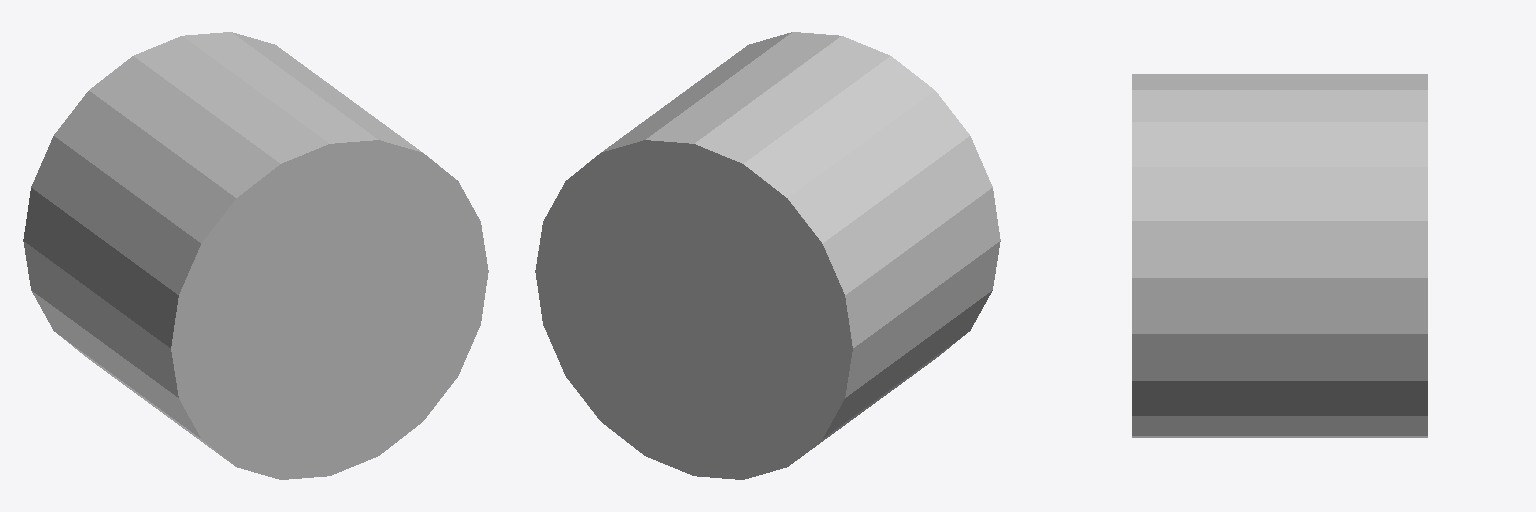
The model's file is Nervio_occipital_D_2.obj.
3 views of the same model, side by side, from view 1: azimuth 30°, elevation 25°; view 2: azimuth 150°, elevation 25°; view 3: azimuth 270°, elevation 25° (orthographic).
Visible parts, largest first — view 1: polySurface36 Marcadores; view 2: polySurface36 Marcadores; view 3: polySurface36 Marcadores.
Boxes of the visible parts, x1=… form: polySurface36 Marcadores: x1=23, y1=32, x2=488, y2=479; polySurface36 Marcadores: x1=535, y1=32, x2=1000, y2=479; polySurface36 Marcadores: x1=1132, y1=74, x2=1427, y2=437.
Size of the model in its own units: 0.0375 by 0.0375 by 0.0302.